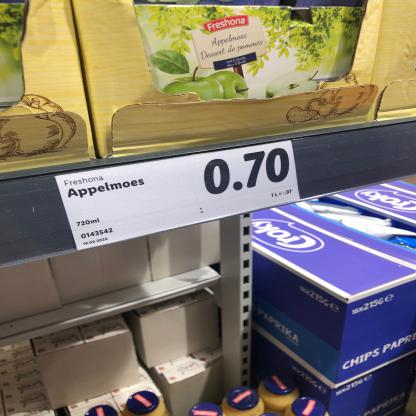prtg: (55, 141, 301, 251)
